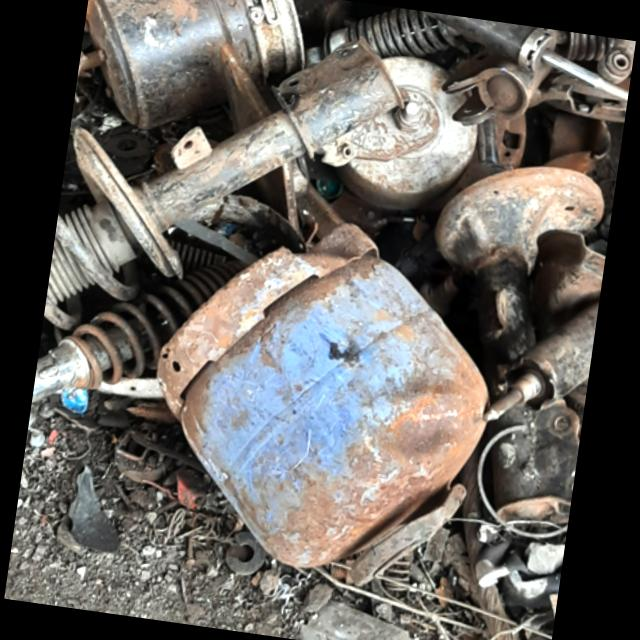Shock Absorber: (31, 260, 232, 406), (304, 10, 522, 62)
